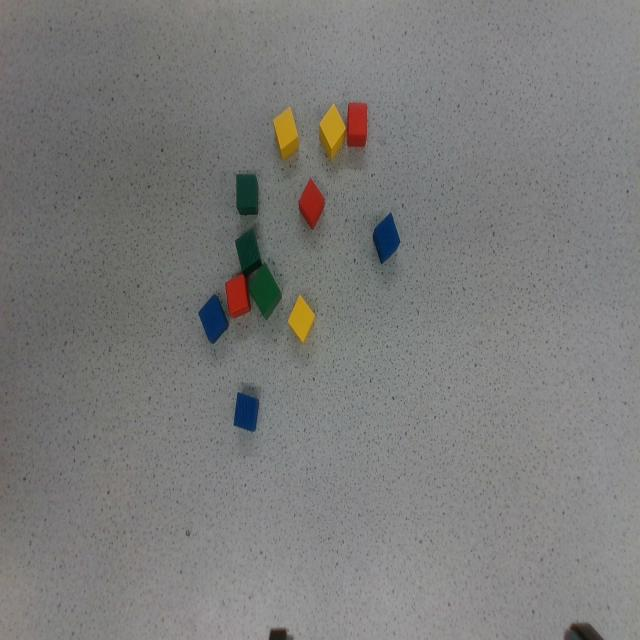blue_cube: (193, 294, 232, 343), (367, 213, 405, 263), (233, 392, 260, 431)
green_cube: (241, 262, 288, 320), (233, 228, 264, 276), (236, 173, 258, 214)
red_cube: (290, 177, 332, 230), (224, 274, 251, 318), (346, 103, 367, 147)
yellow_cube: (309, 104, 356, 159), (282, 296, 321, 343), (270, 108, 303, 160)
